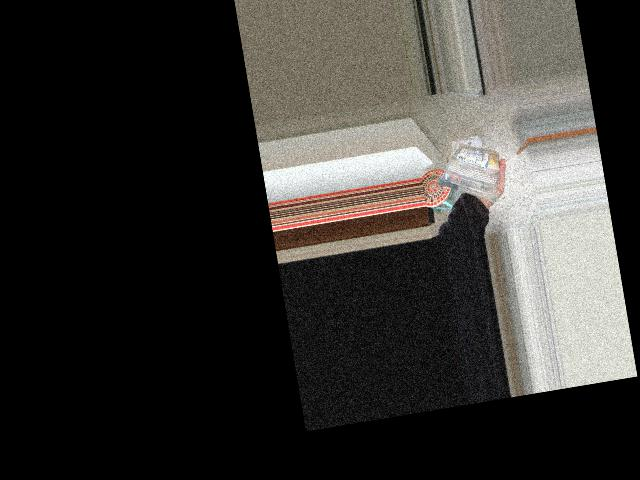cheese: (426, 127, 504, 211)
